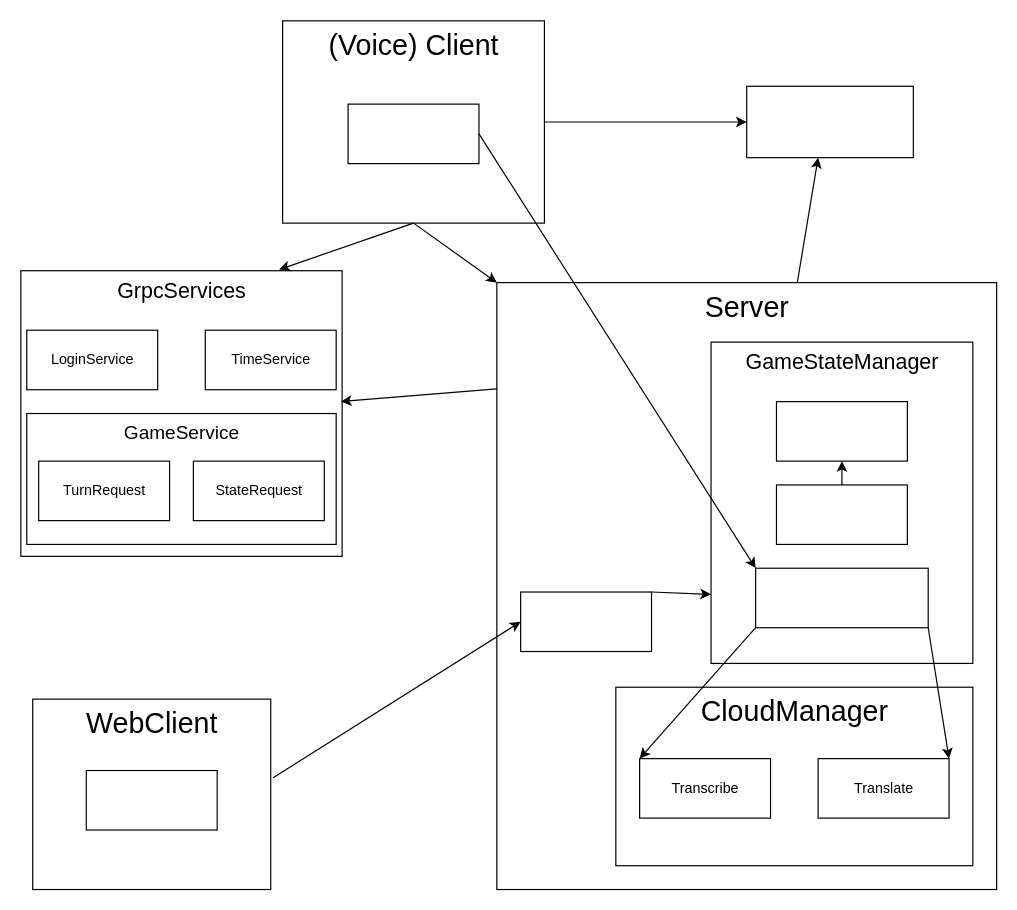
The diagram is 1017 pixels wide and 910 high, and some of its shapes have lost their labels. Each missing label, with the centre of its shape:
AudioCapture: the point at 413,133
Autorefresh: the point at 151,799
CatchGame: the point at 841,430
ConfigurationProvider: the point at 829,121
PlayerTurnProcessing: the point at 841,597
TurnLoop: the point at 841,514
WebService: the point at 585,621
